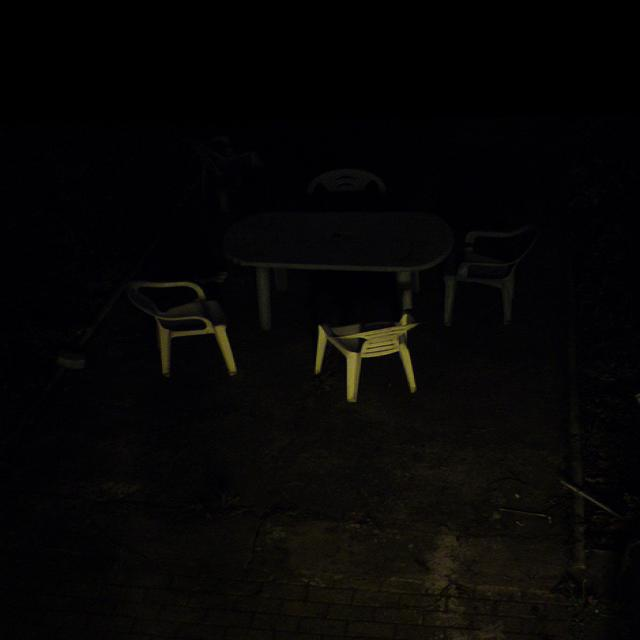Table: (177, 204, 457, 312)
chair: (99, 272, 239, 392), (314, 310, 436, 411), (454, 217, 547, 319), (303, 149, 412, 213)
